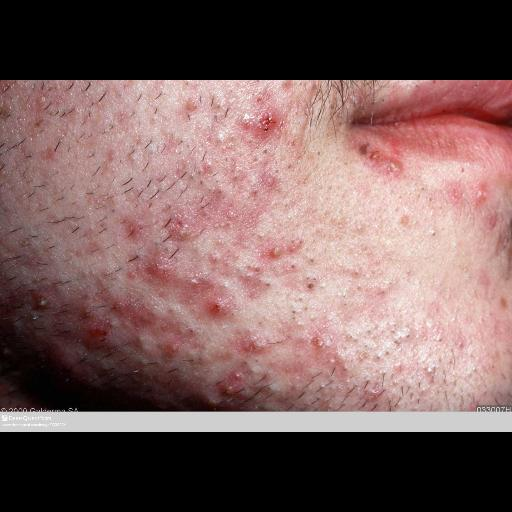Skin_Lesion: (316, 236, 392, 284), (235, 92, 285, 152), (119, 250, 193, 284), (76, 92, 126, 138), (24, 272, 62, 328), (361, 140, 407, 186), (149, 200, 201, 240), (300, 315, 344, 353), (112, 294, 156, 330), (260, 237, 306, 263), (155, 137, 191, 167), (205, 290, 241, 318), (232, 270, 266, 298), (218, 368, 252, 396), (82, 317, 114, 343), (426, 300, 454, 326), (255, 169, 281, 193), (245, 332, 271, 352), (162, 335, 184, 355), (30, 88, 48, 112), (176, 104, 196, 124), (122, 220, 140, 240), (472, 184, 490, 204), (450, 332, 468, 350), (478, 270, 494, 290), (483, 210, 499, 230), (448, 187, 464, 203), (42, 146, 58, 160), (198, 163, 214, 177)
